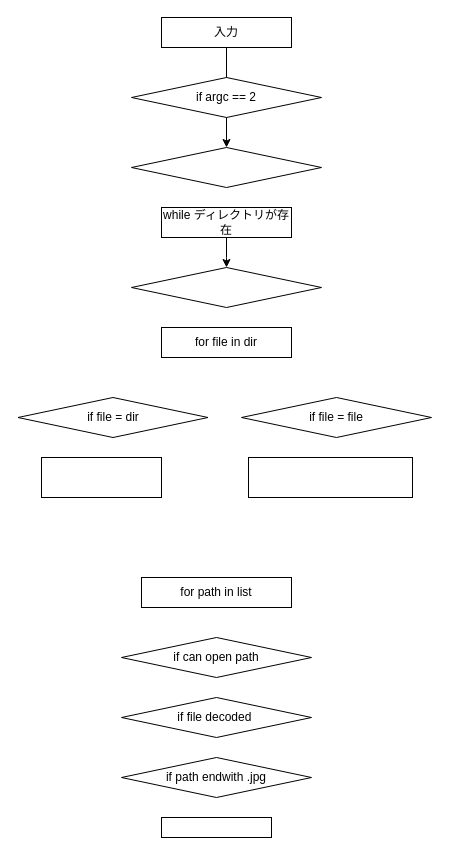
The diagram is 449 pixels wide and 855 high, and some of its shapes have lost their labels. Each missing label, with the centre of its shape:
append path to list: (x=330, y=477)
convert: (x=216, y=827)
defined as next directory to search: (x=101, y=477)
if arg is directory: (x=226, y=167)
if can open directory: (x=226, y=287)
